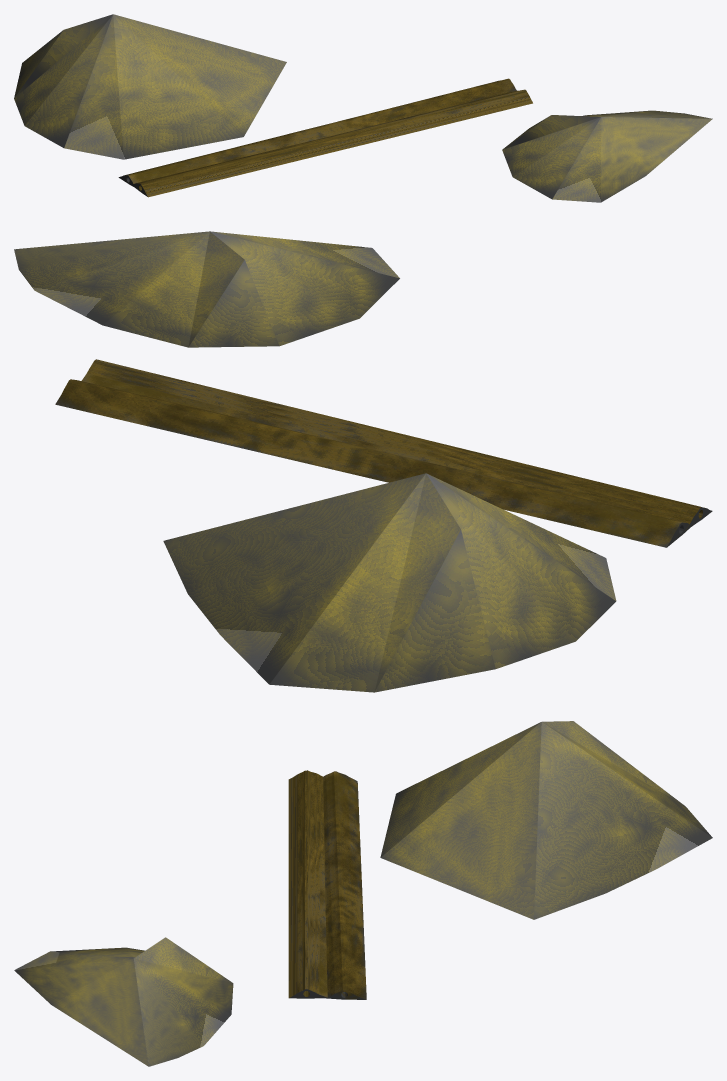
File: Venus.gltf
The picture shows the model from 3 angles, top to bottom: view 1: azimuth 30°, elevation 25°; view 2: azimuth 150°, elevation 25°; view 3: azimuth 270°, elevation 25°; orthographic projection. The views are drawn at different scales.
Parts seen in each view (by area): view 1: cone-col, cone2-col, tube2-col, tube-col; view 2: cone-col, cone2-col, tube-col, tube2-col; view 3: cone-col, cone2-col, tube2-col, tube-col.
Part boxes in pixels (x1,y1,x2,y2): cone-col: (14,14,286,159); cone2-col: (502,110,712,202); tube2-col: (131,89,532,197); tube-col: (118,78,516,186); cone-col: (163,473,616,692); cone2-col: (14,231,399,347); tube-col: (55,379,689,547); tube2-col: (81,359,712,530); cone-col: (380,721,712,919); cone2-col: (14,937,233,1066); tube2-col: (288,770,327,998); tube-col: (323,771,366,999).
Bounding box in the file's own units: 42.42 × 6.77 × 42.2.
Materials: 2 (2 with a texture image).
